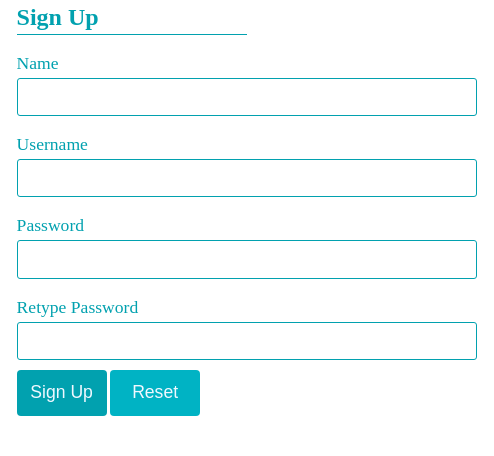
Test: SignUpForm › ReType password does not match
Type "password" into the 1st password field named "password".
click(247, 260); type("password")  # box 17,240 -> 477,279
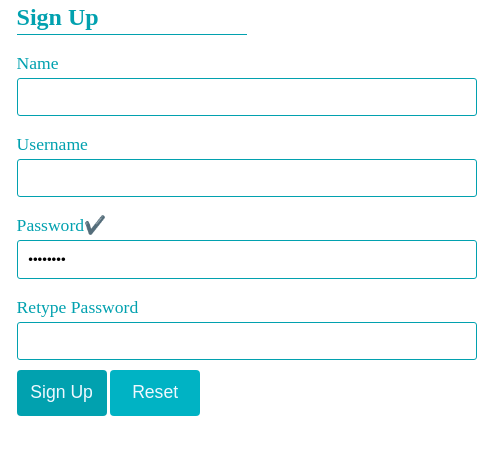
Type "passwor" into the password field named "rePassword" below "Retype Password".
click(247, 341); type("passwor")  # box 17,322 -> 477,360
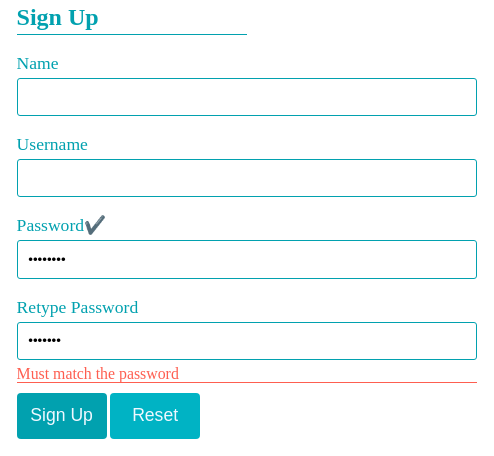
Expected: the text "Must match the password" is shown, 17,366 -> 477,383
